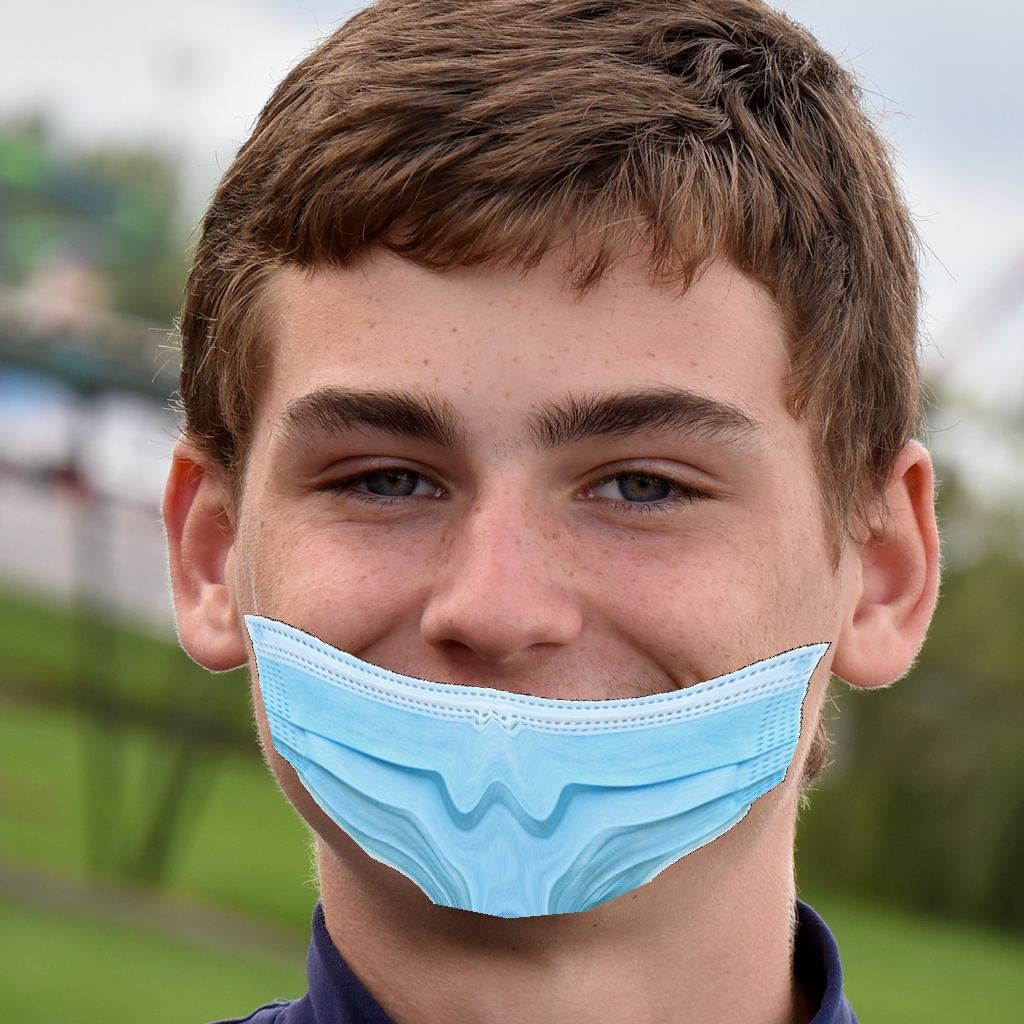mask_weared_incorrect: (244, 361, 820, 928)
